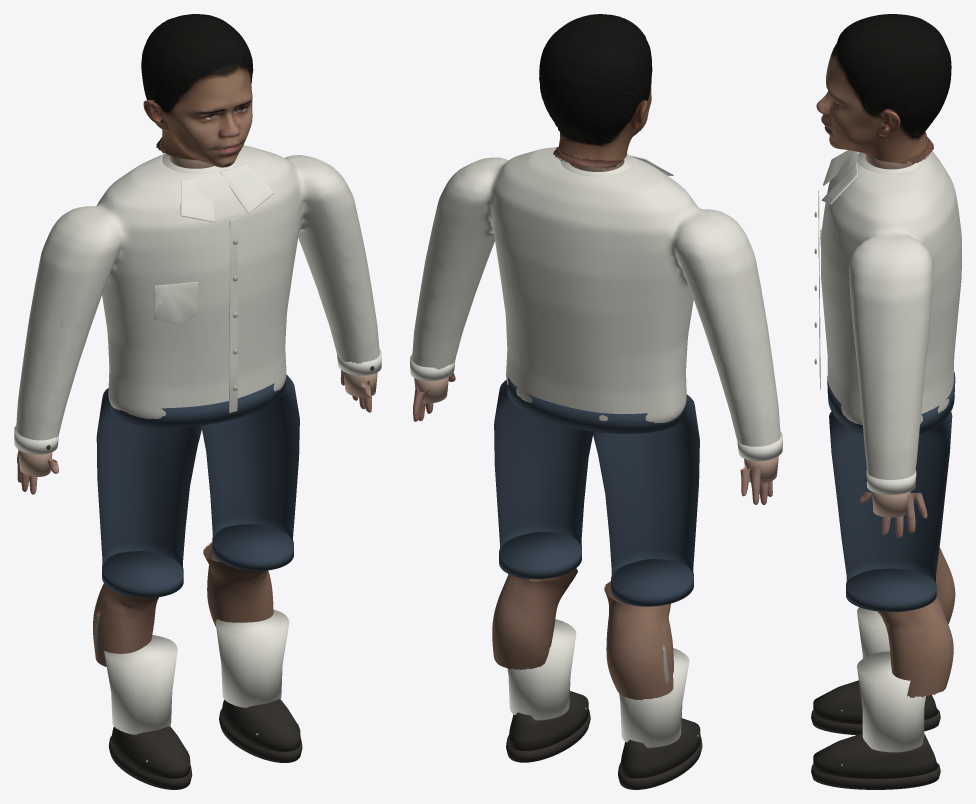
Rendered from CampusBoy.fbx.
3 renders of one model, left to right at view 1: azimuth 30°, elevation 25°; view 2: azimuth 150°, elevation 25°; view 3: azimuth 270°, elevation 25°, orthographic.
Parts seen in each view (by area): view 1: CampusBoy; view 2: CampusBoy; view 3: CampusBoy.
Part boxes in pixels (bbox=[...]): CampusBoy: bbox=[14, 14, 381, 789]; CampusBoy: bbox=[410, 14, 782, 789]; CampusBoy: bbox=[811, 14, 961, 789].
Bounding box in the file's own units: 64.5 × 124 × 23.27.
Materials: 7 (1 with a texture image).
